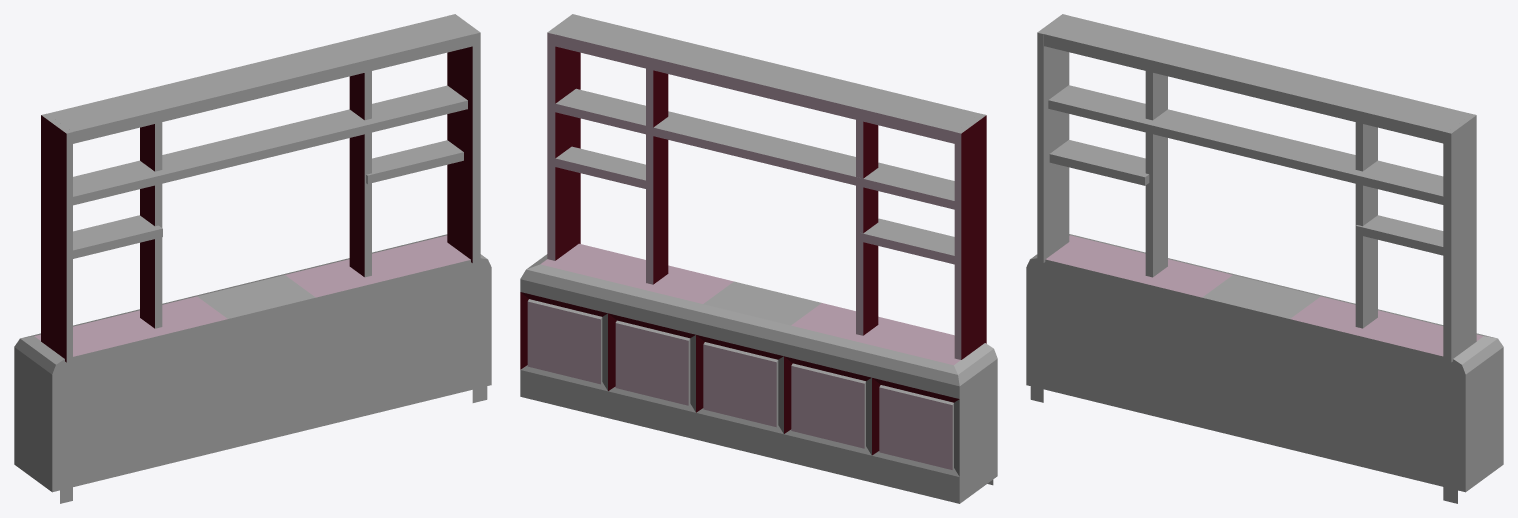
Rendered from cabnet.fbx.
3 views of the same model, side by side, from view 1: azimuth 30°, elevation 25°; view 2: azimuth 150°, elevation 25°; view 3: azimuth 330°, elevation 25° (orthographic).
Parts seen in each view (by area): view 1: pCube9, CLOSET1; view 2: pCube9, CLOSET1; view 3: pCube9, CLOSET1.
Boxes of the visible parts, x1,y1,x2,y2 form: pCube9: [14, 234, 491, 492]; CLOSET1: [41, 14, 487, 503]; pCube9: [520, 243, 997, 503]; CLOSET1: [547, 14, 993, 485]; pCube9: [1026, 234, 1503, 492]; CLOSET1: [1030, 14, 1476, 503].
Bounding box in the file's own units: 8.69 × 6.97 × 1.36.
